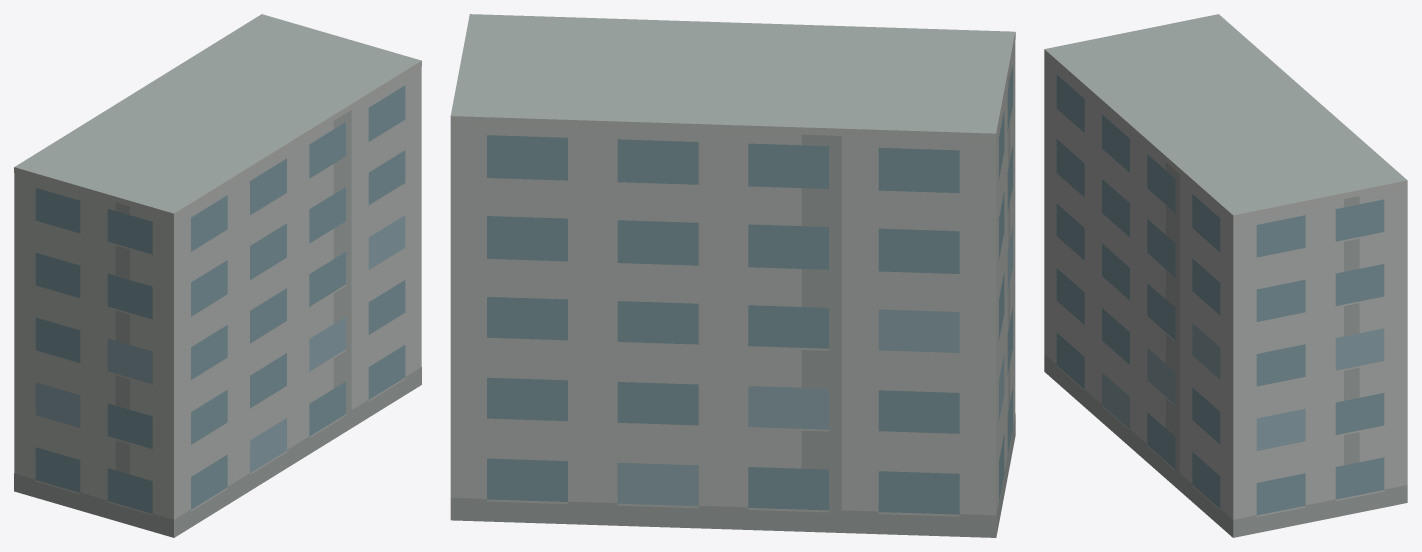
The model's file is survey-upis-32740668.glb.
3 renders of one model, left to right at view 1: azimuth 30°, elevation 25°; view 2: azimuth 150°, elevation 25°; view 3: azimuth 270°, elevation 25°, orthographic. The views are drawn at different scales.
Visible parts, largest first — view 1: survey-upis-32740668.tmp; view 2: survey-upis-32740668.tmp; view 3: survey-upis-32740668.tmp.
Part boxes in pixels (x1=…): survey-upis-32740668.tmp: x1=14, y1=14, x2=421, y2=537; survey-upis-32740668.tmp: x1=450, y1=14, x2=1015, y2=537; survey-upis-32740668.tmp: x1=1044, y1=14, x2=1407, y2=537.
Bounding box in the file's own units: 17.95 × 13.4 × 13.69.
